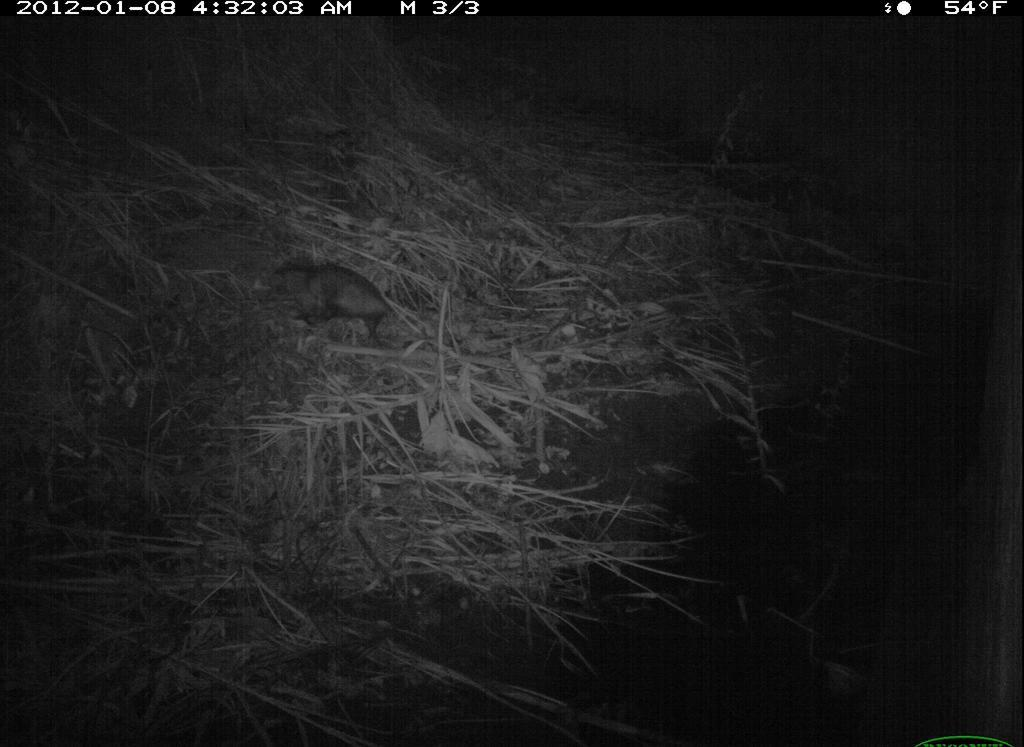opossum: (262, 240, 441, 370)
